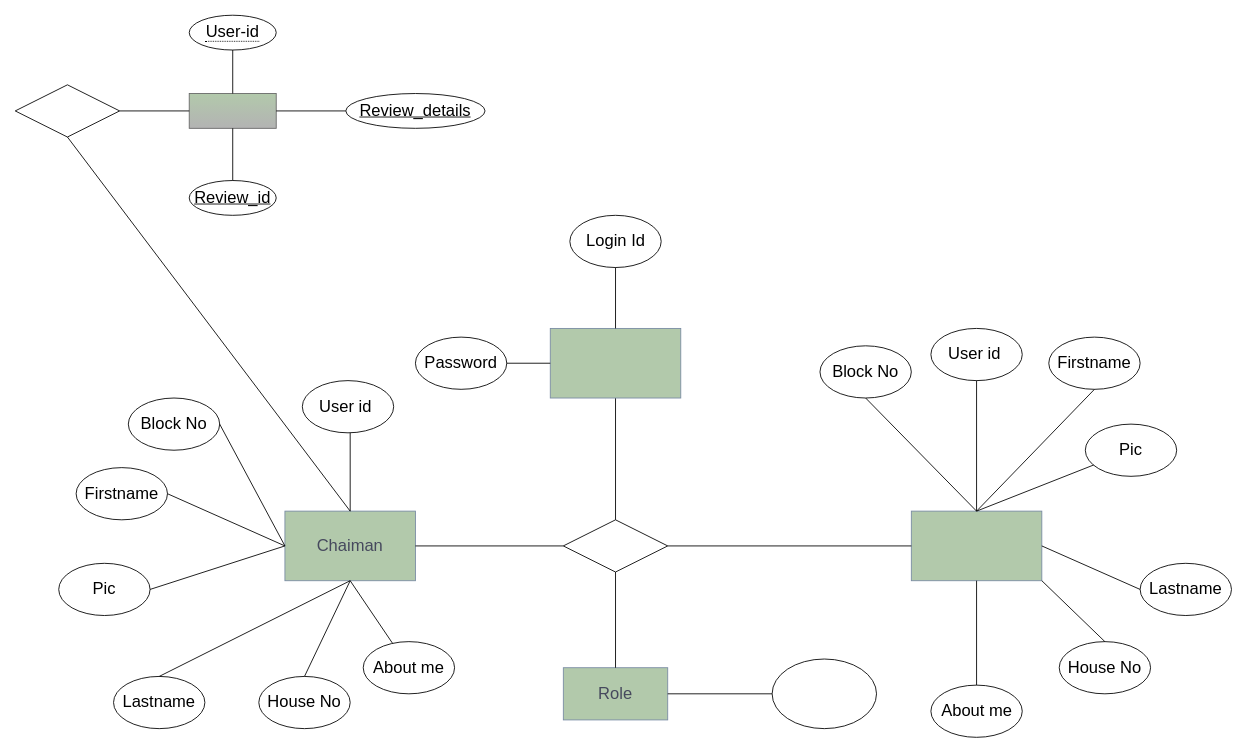
Image size: 1247x753. Some labels were removed from this diagram. Here are the shapes that lost their labels. From the top down, the centre of each, then its label:
point (67, 110): Manage
point (232, 110): Review
point (615, 363): Login
point (615, 545): HAS
point (976, 545): Society Member
point (824, 693): Role name
